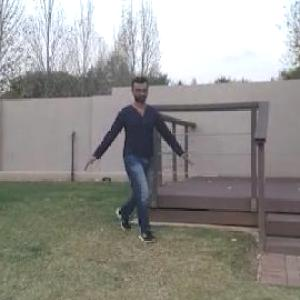land: (80, 70, 191, 261)
